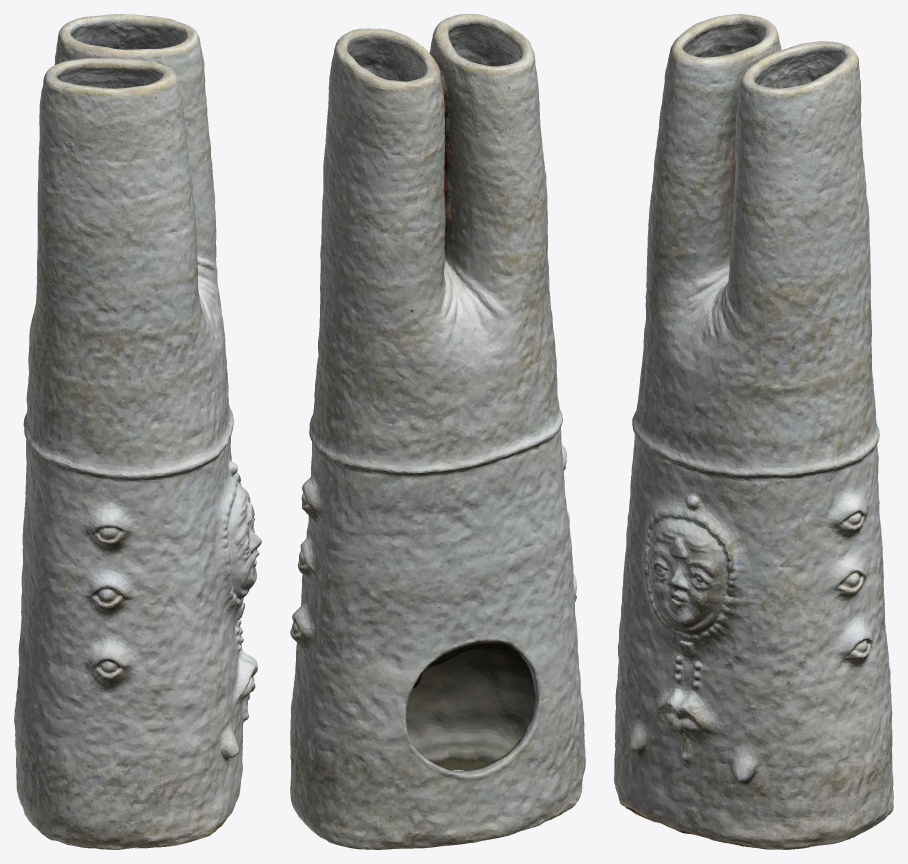
Rendered from mavea.glb.
The picture shows the model from 3 angles, left to right: view 1: azimuth 30°, elevation 25°; view 2: azimuth 150°, elevation 25°; view 3: azimuth 270°, elevation 25°; orthographic projection. The views are drawn at different scales.
Bounding box in the file's own units: 0.4698 × 1.44 × 0.4891.
Materials: 1 (1 with a texture image).
